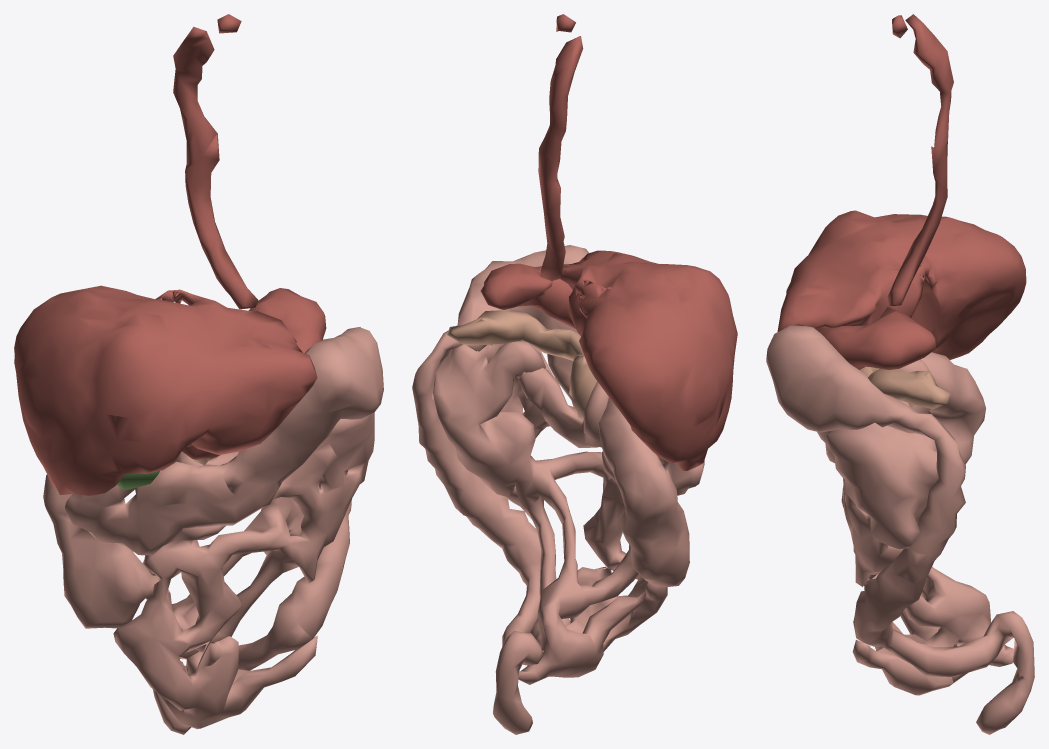
The model's file is tsd_s0327_older_adult_male.digestive.LOD4.glb.
3 renders of one model, left to right at view 1: azimuth 30°, elevation 25°; view 2: azimuth 150°, elevation 25°; view 3: azimuth 270°, elevation 25°, orthographic. The views are drawn at different scales.
Parts seen in each view (by area): view 1: TSD_S0327.OLDER_ADULT.MALE.DIGESTIVE.LIVER, TSD_S0327.OLDER_ADULT.MALE.DIGESTIVE.COLON, TSD_S0327.OLDER_ADULT.MALE.DIGESTIVE.SMALL_BOWEL_JEJUNUM_AND, TSD_S0327.OLDER_ADULT.MALE.DIGESTIVE.ESOPHAGUS, TSD_S0327.OLDER_ADULT.MALE.DIGESTIVE.STOMACH; view 2: TSD_S0327.OLDER_ADULT.MALE.DIGESTIVE.SMALL_BOWEL_JEJUNUM_AND, TSD_S0327.OLDER_ADULT.MALE.DIGESTIVE.LIVER, TSD_S0327.OLDER_ADULT.MALE.DIGESTIVE.COLON, TSD_S0327.OLDER_ADULT.MALE.DIGESTIVE.ESOPHAGUS, TSD_S0327.OLDER_ADULT.MALE.DIGESTIVE.PANCREAS, TSD_S0327.OLDER_ADULT.MALE.DIGESTIVE.DUODENUM, TSD_S0327.OLDER_ADULT.MALE.DIGESTIVE.STOMACH; view 3: TSD_S0327.OLDER_ADULT.MALE.DIGESTIVE.COLON, TSD_S0327.OLDER_ADULT.MALE.DIGESTIVE.LIVER, TSD_S0327.OLDER_ADULT.MALE.DIGESTIVE.SMALL_BOWEL_JEJUNUM_AND, TSD_S0327.OLDER_ADULT.MALE.DIGESTIVE.ESOPHAGUS, TSD_S0327.OLDER_ADULT.MALE.DIGESTIVE.STOMACH, TSD_S0327.OLDER_ADULT.MALE.DIGESTIVE.PANCREAS.
Part boxes in pixels (<box>): TSD_S0327.OLDER_ADULT.MALE.DIGESTIVE.LIVER: <box>14,285,317,496</box>; TSD_S0327.OLDER_ADULT.MALE.DIGESTIVE.COLON: <box>43,327,383,734</box>; TSD_S0327.OLDER_ADULT.MALE.DIGESTIVE.SMALL_BOWEL_JEJUNUM_AND: <box>113,412,374,729</box>; TSD_S0327.OLDER_ADULT.MALE.DIGESTIVE.ESOPHAGUS: <box>173,14,258,309</box>; TSD_S0327.OLDER_ADULT.MALE.DIGESTIVE.STOMACH: <box>182,288,326,460</box>; TSD_S0327.OLDER_ADULT.MALE.DIGESTIVE.SMALL_BOWEL_JEJUNUM_AND: <box>433,311,667,684</box>; TSD_S0327.OLDER_ADULT.MALE.DIGESTIVE.LIVER: <box>560,250,737,470</box>; TSD_S0327.OLDER_ADULT.MALE.DIGESTIVE.COLON: <box>412,245,704,734</box>; TSD_S0327.OLDER_ADULT.MALE.DIGESTIVE.ESOPHAGUS: <box>538,14,583,280</box>; TSD_S0327.OLDER_ADULT.MALE.DIGESTIVE.PANCREAS: <box>447,310,597,418</box>; TSD_S0327.OLDER_ADULT.MALE.DIGESTIVE.DUODENUM: <box>518,367,609,447</box>; TSD_S0327.OLDER_ADULT.MALE.DIGESTIVE.STOMACH: <box>480,263,575,328</box>; TSD_S0327.OLDER_ADULT.MALE.DIGESTIVE.COLON: <box>766,325,1034,734</box>; TSD_S0327.OLDER_ADULT.MALE.DIGESTIVE.LIVER: <box>777,210,1026,359</box>; TSD_S0327.OLDER_ADULT.MALE.DIGESTIVE.SMALL_BOWEL_JEJUNUM_AND: <box>825,400,1013,695</box>; TSD_S0327.OLDER_ADULT.MALE.DIGESTIVE.ESOPHAGUS: <box>887,14,953,306</box>; TSD_S0327.OLDER_ADULT.MALE.DIGESTIVE.STOMACH: <box>819,307,936,369</box>; TSD_S0327.OLDER_ADULT.MALE.DIGESTIVE.PANCREAS: <box>859,366,950,409</box>.
Bounding box in the file's own units: 0.2553 × 0.5709 × 0.1936.
